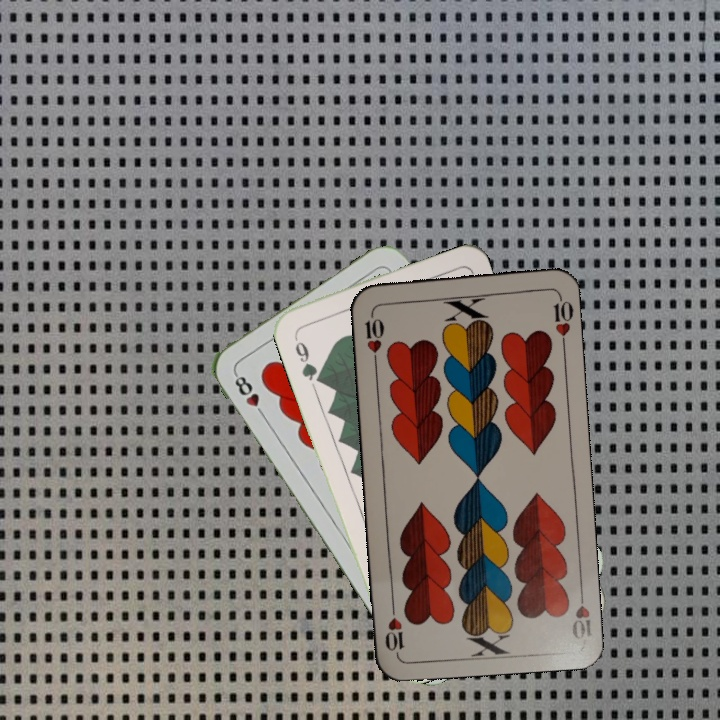G9: (290, 330, 323, 385)
H10: (360, 306, 387, 366), (567, 583, 594, 642)
H8: (230, 369, 269, 421)
